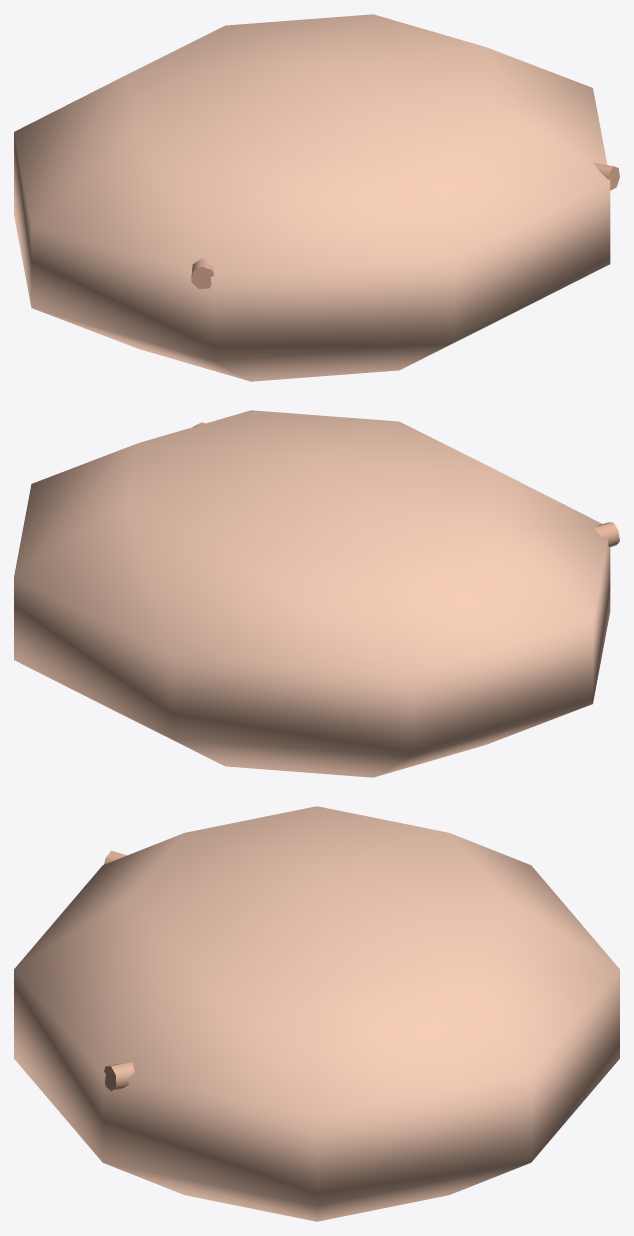
Rendered from ocean-scenery-40.glb.
3 views of the same model, one above another, from view 1: azimuth 30°, elevation 25°; view 2: azimuth 150°, elevation 25°; view 3: azimuth 270°, elevation 25° (orthographic). The views are drawn at different scales.
Parts seen in each view (by area): view 1: Island beach shell; view 2: Island beach shell; view 3: Island beach shell.
Boxes of the visible parts, x1,y1,x2,y2 form: Island beach shell: (14, 14, 619, 381); Island beach shell: (14, 410, 619, 777); Island beach shell: (14, 806, 619, 1221).
Bounding box in the file's own units: 0.4375 × 0.2 × 0.3804.
